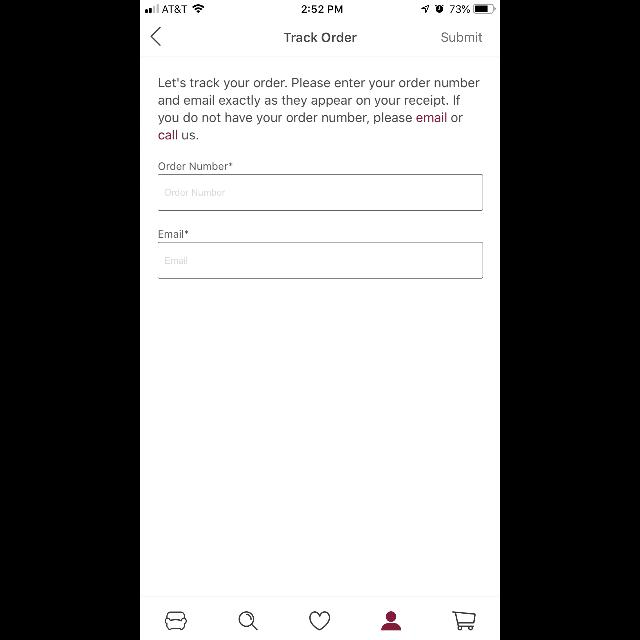icon: (452, 612, 476, 630), (381, 612, 401, 630), (310, 612, 330, 630), (238, 612, 258, 630), (151, 28, 161, 46)
image: (165, 612, 187, 630)
input: (158, 175, 482, 211), (158, 242, 482, 278)
text: (158, 78, 480, 140), (284, 33, 358, 43), (159, 162, 233, 170), (164, 188, 226, 196), (442, 32, 482, 42), (159, 230, 189, 238), (165, 258, 187, 264)
uppertaskbar: (140, 0, 500, 14)
